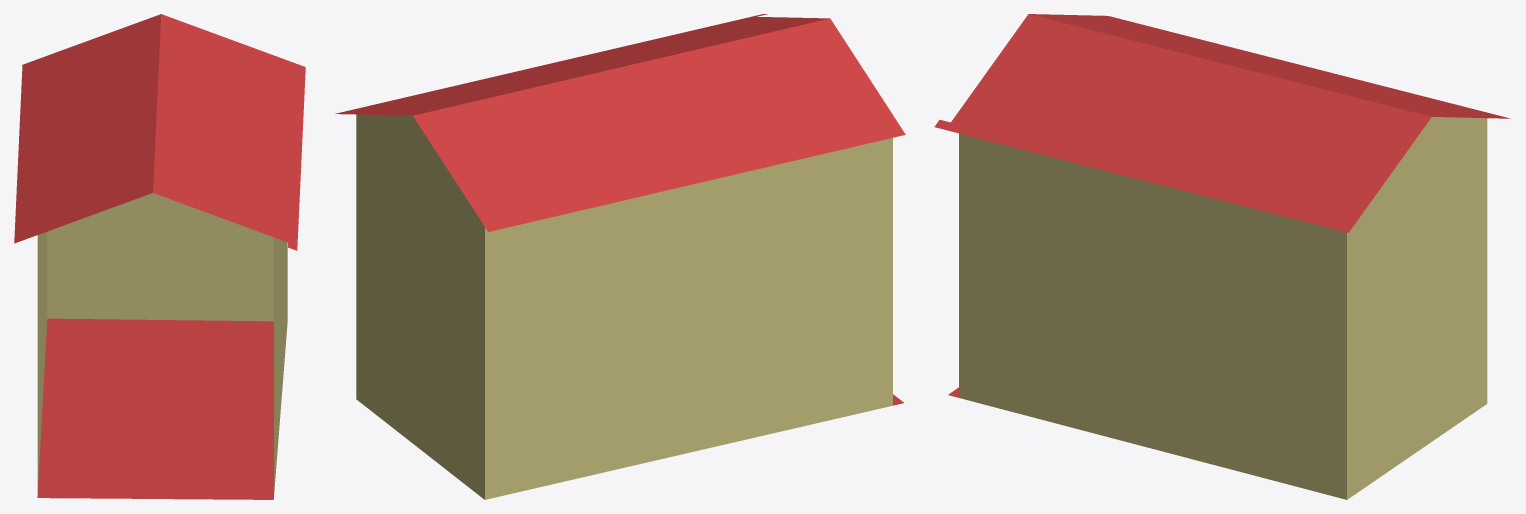
3 renders of one model, left to right at view 1: azimuth 30°, elevation 25°; view 2: azimuth 150°, elevation 25°; view 3: azimuth 270°, elevation 25°, orthographic. The views are drawn at different scales.
Visible parts, largest first — view 1: group_3, group_6, group_5, group_4; view 2: group_5, group_3, group_4; view 3: group_5, group_3, group_4.
Boxes of the visible parts, x1,y1,x2,y2 form: group_3: (14,14,305,250); group_6: (37,318,273,499); group_5: (37,193,287,494); group_4: (14,61,296,249); group_5: (356,114,892,499); group_3: (335,14,905,231); group_4: (389,15,904,230); group_5: (959,117,1487,499); group_3: (934,14,1510,232); group_4: (936,15,1505,211).
Size of the model in its own units: 12.62 by 14.2 by 9.09.
